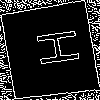H: (24, 26, 81, 70)
